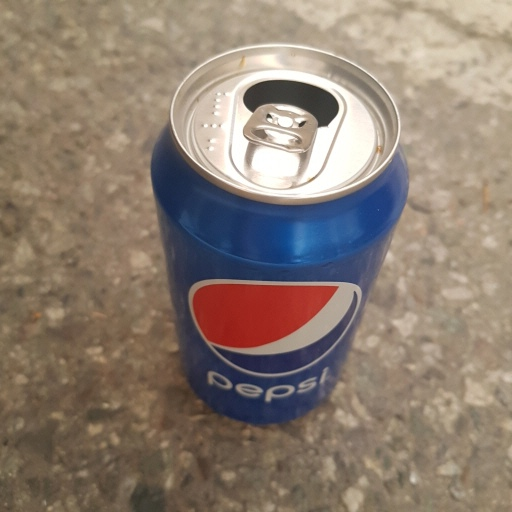Metal_0: (151, 42, 413, 426)
